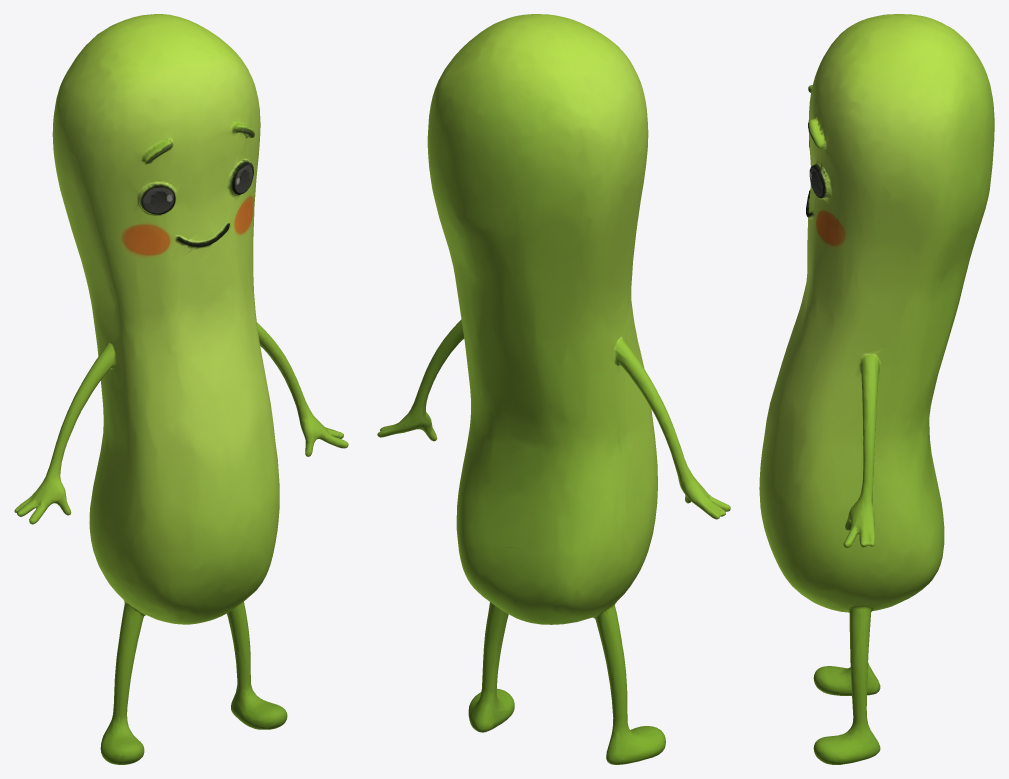
The model's file is Char_Probiotic.glb.
The picture shows the model from 3 angles, left to right: view 1: azimuth 30°, elevation 25°; view 2: azimuth 150°, elevation 25°; view 3: azimuth 270°, elevation 25°; orthographic projection. The views are drawn at different scales.
Bounding box in the file's own units: 0.9296 × 1.9 × 0.579.
1 material, 1 textured.
